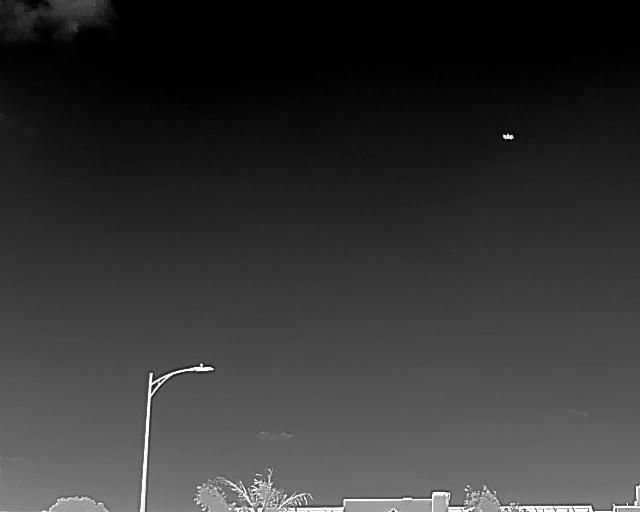fpv-drone: (502, 132, 514, 140)
